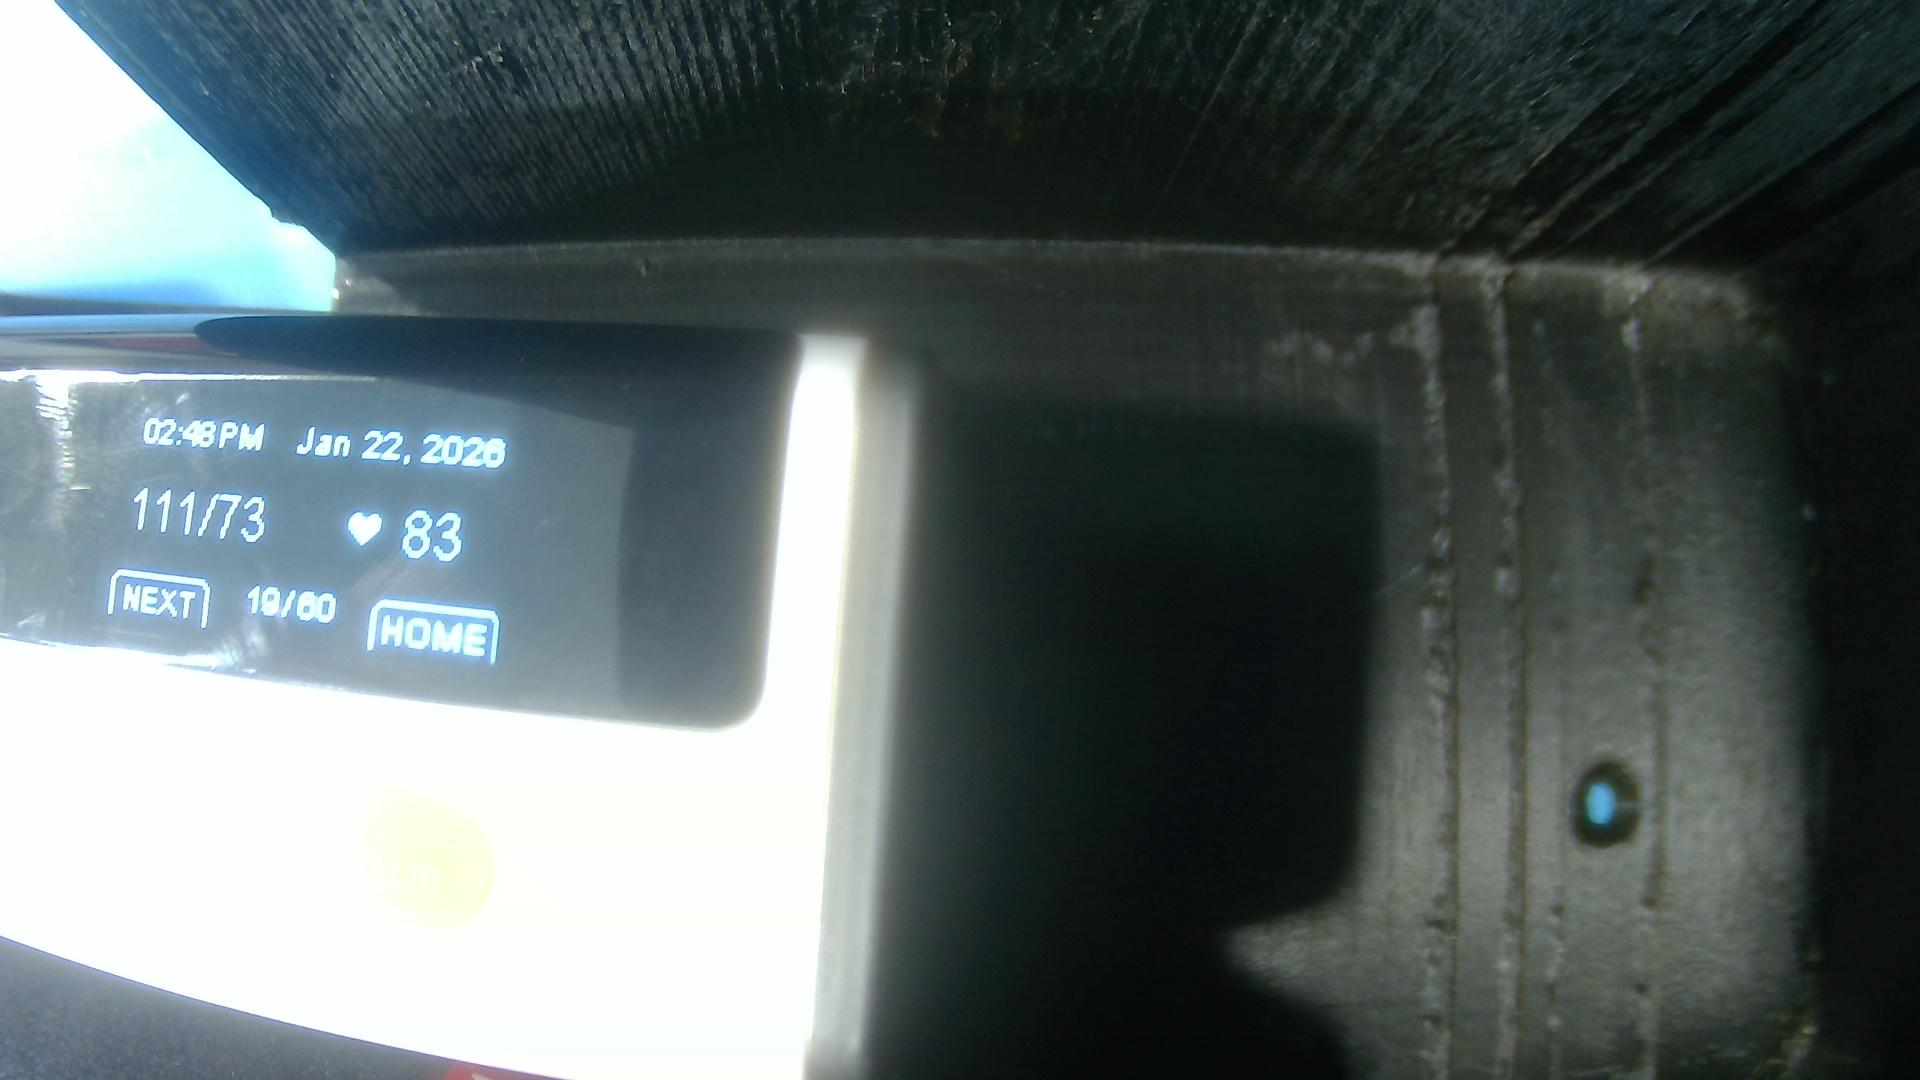DISPLAY: (8, 318, 782, 727)
